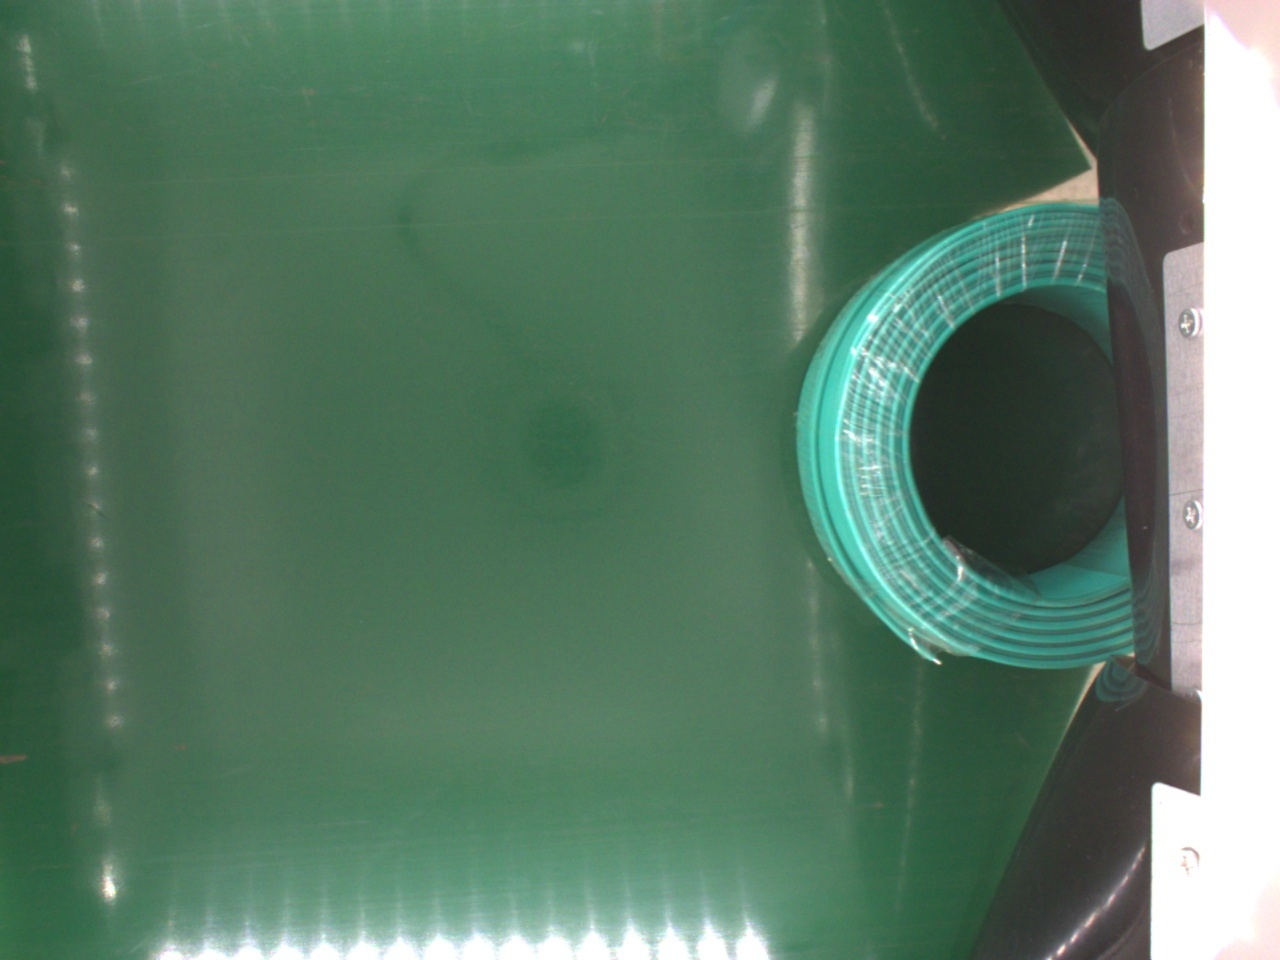green: (789, 202, 1142, 671)
